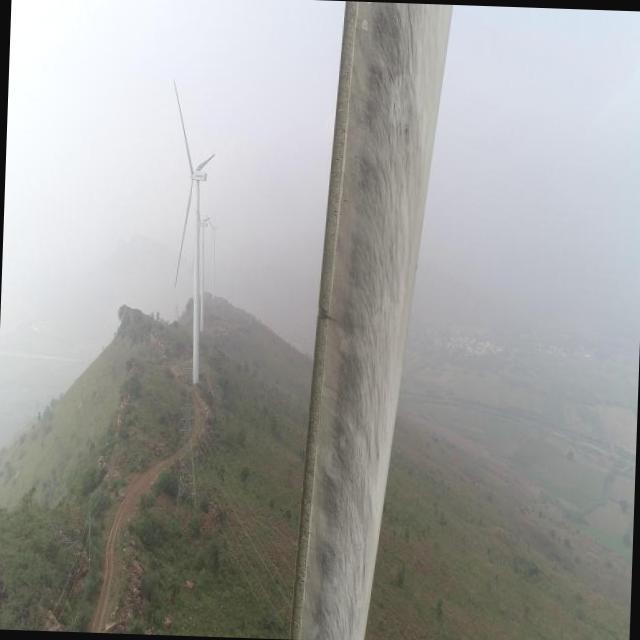Dirt: (291, 0, 454, 639)
